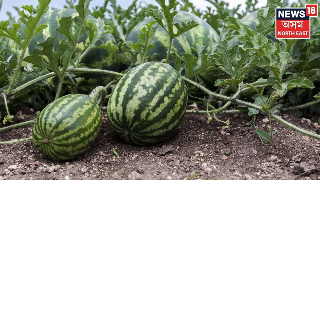dua_hau: (107, 59, 188, 142), (30, 92, 103, 159)
